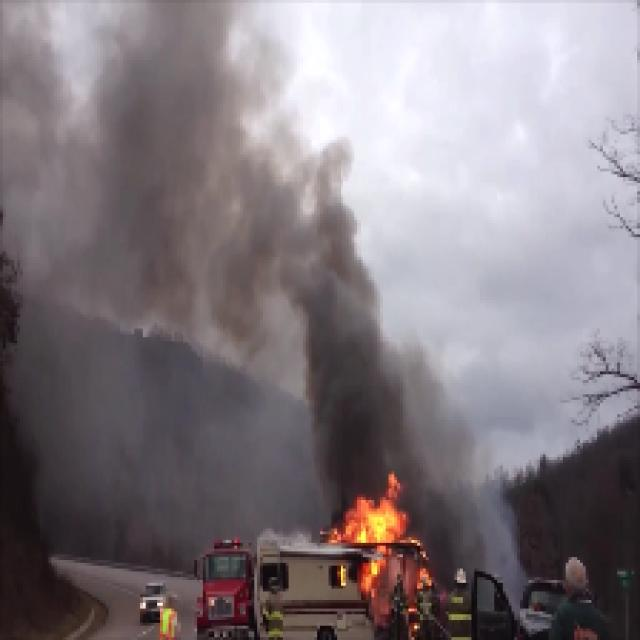smoke: (3, 2, 273, 347), (283, 142, 398, 447), (409, 367, 498, 517)
